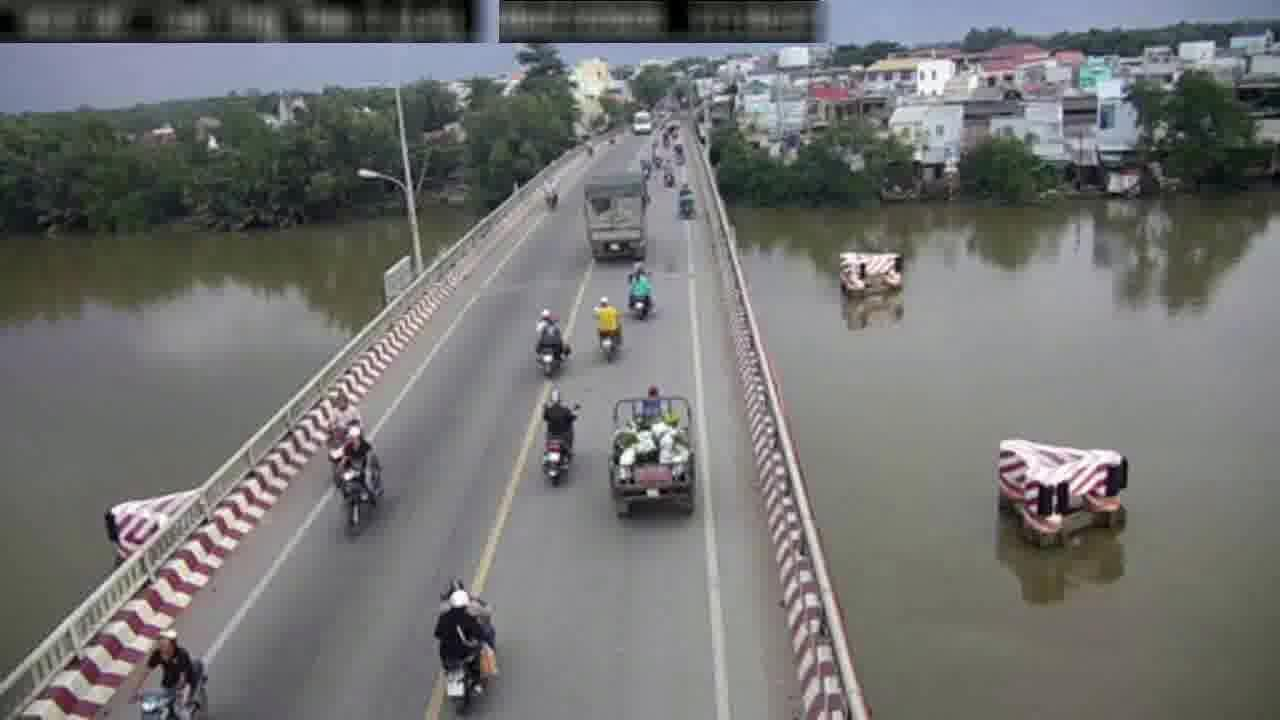8: (579, 157, 651, 265)
motorbike: (437, 567, 492, 716), (337, 412, 375, 526), (535, 389, 575, 489), (325, 386, 359, 471), (529, 304, 565, 375), (594, 291, 621, 361), (626, 260, 653, 320)
